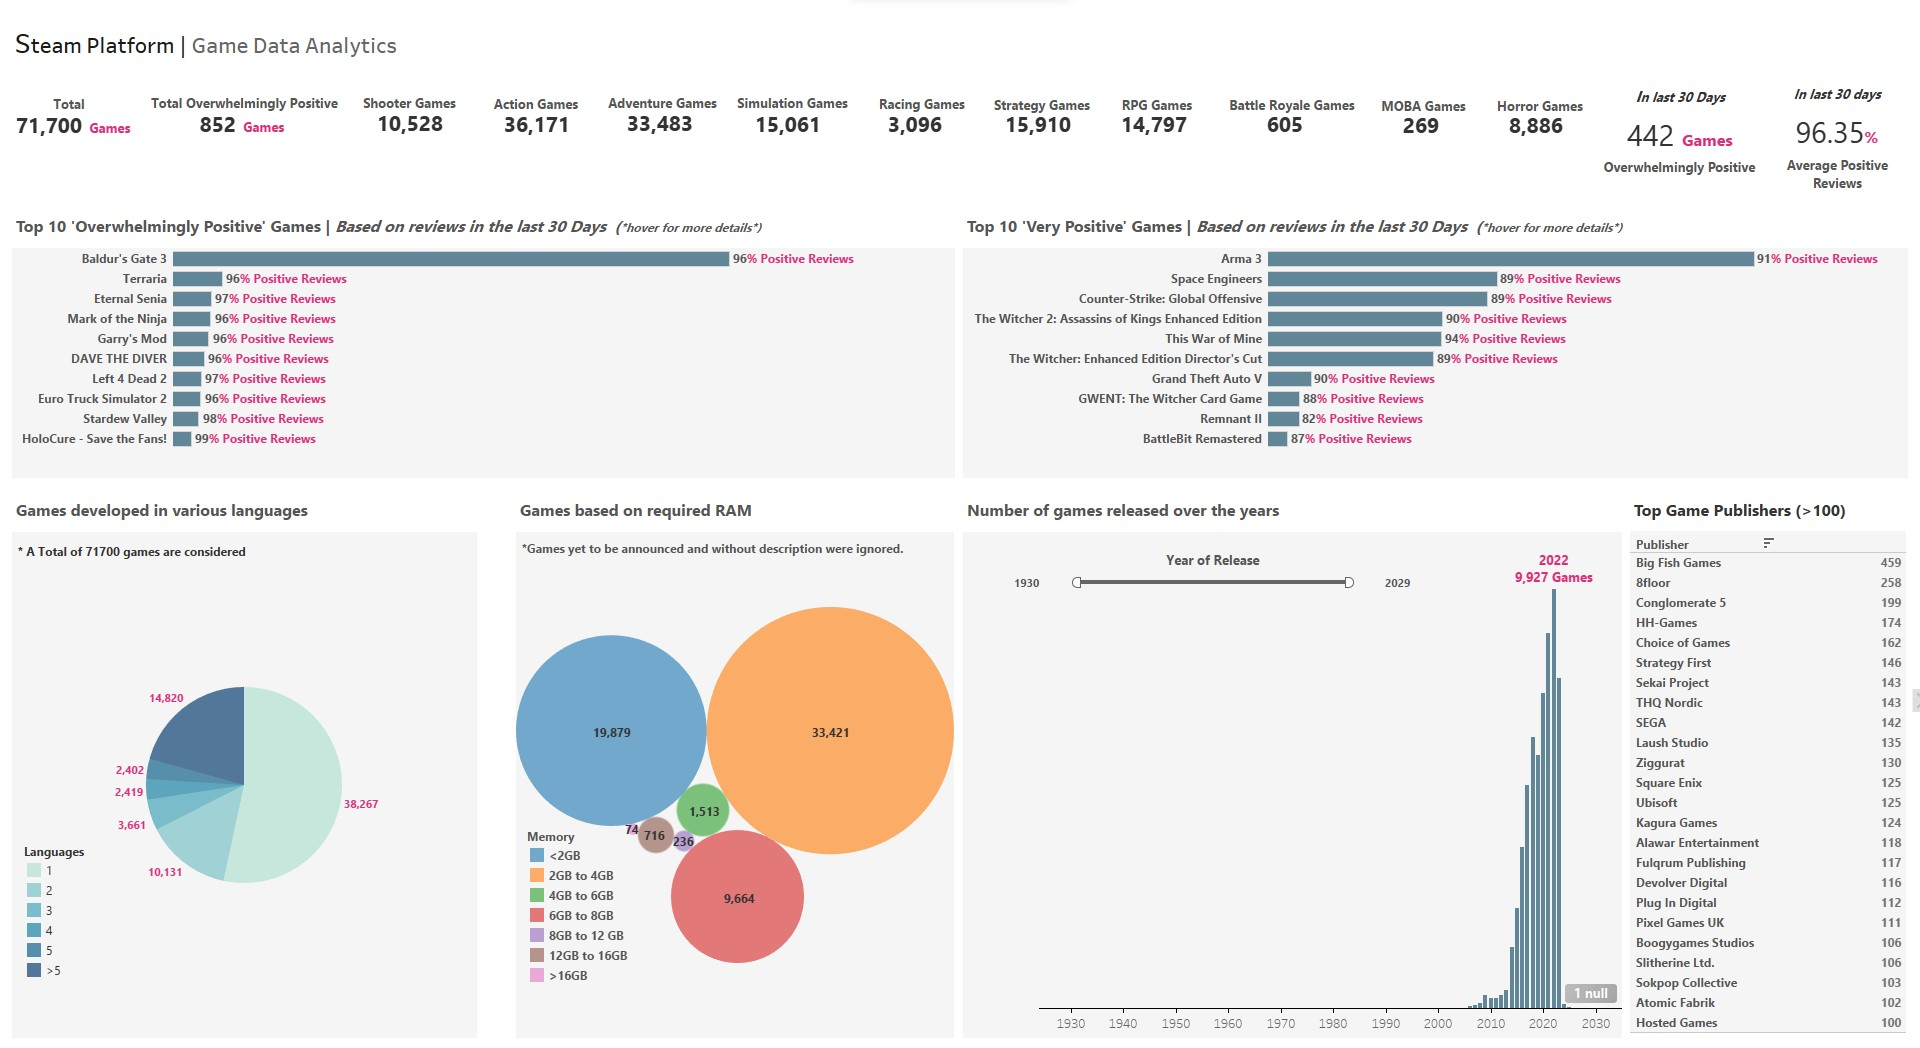

The dashboard page shown, as its layout file describes it:
{"tool":"tableau","page":{"name":"Dashboard 1","canvas":[1000,1000],"units":"permille","ordinal":0},"visuals":[{"type":"text","box":[4.8,9,990.5,65.1]},{"type":"worksheet","title":"All Games","mark":"Automatic","box":[4.8,74.1,68.6,123.7]},{"type":"worksheet","title":"All OP Games","mark":"Automatic","box":[73.4,74.1,108.5,123.7]},{"type":"worksheet","title":"Shooter","mark":"Automatic","box":[181.9,74.1,67.2,123.7]},{"type":"worksheet","title":"Action","mark":"Automatic","box":[249.2,74.1,61.9,123.7]},{"type":"worksheet","title":"Adventure","mark":"Automatic","box":[311.1,74.1,65.7,123.7]},{"type":"worksheet","title":"Simulation","mark":"Automatic","box":[376.8,74.1,68.3,123.7]},{"type":"worksheet","title":"Racing","mark":"Automatic","box":[445,74.1,64.7,123.7]},{"type":"worksheet","title":"Strategy","mark":"Automatic","box":[509.7,74.1,63.7,123.7]},{"type":"worksheet","title":"RPG","mark":"Automatic","box":[573.5,74.1,63.6,123.7]},{"type":"worksheet","title":"BattleRoyale","mark":"Automatic","box":[637.1,74.1,67.2,123.7]},{"type":"worksheet","title":"MOBA","mark":"Automatic","box":[704.3,74.1,71.2,123.7]},{"type":"worksheet","title":"Horror","mark":"Automatic","box":[775.5,74.1,55.9,123.7]},{"type":"worksheet","title":"Total OP Games","mark":"Automatic","box":[831.4,74.1,86.6,123.7]},{"type":"worksheet","title":"Avg percent Response","mark":"Automatic","box":[918,74.1,77.2,123.7]},{"type":"text","box":[0,75.2,72,46.6]},{"type":"text","box":[373.3,75.2,78.4,45.6]},{"type":"text","box":[175,76.3,76.7,43.4]},{"type":"text","box":[245.2,76.3,67.9,44.5]},{"type":"text","box":[308.9,76.3,72.6,43.4]},{"type":"text","box":[449.4,76.3,61.4,44.5]},{"type":"text","box":[54.4,77.3,146.3,42.4]},{"type":"text","box":[511.4,77.3,62.6,44.5]},{"type":"text","box":[575.8,77.3,54.4,44.5]},{"type":"text","box":[632,77.3,82.5,44.5]},{"type":"text","box":[706.9,78.4,69,44.5]},{"type":"text","box":[767.1,78.4,69.6,44.5]},{"type":"worksheet","title":"Top 10 'Overwhelmingly Positive' Games","mark":"Automatic","rows":["Title"],"cols":["Reviews"],"box":[4.8,197.8,494.5,269.8]},{"type":"worksheet","title":"Top 10 'Very Positive' Games","mark":"Automatic","rows":["Title"],"cols":["Reviews"],"box":[499.3,197.8,496,269.8]},{"type":"worksheet","title":"GameLanguages","mark":"Pie","box":[4.8,467.5,262.3,523.5]},{"type":"worksheet","title":"Sheet 19","mark":"Circle","box":[267,467.5,232.2,523.5]},{"type":"worksheet","title":"Releases","mark":"Bar","rows":["Title"],"cols":["ReleaseDate"],"box":[499.3,467.5,347.1,523.5]},{"type":"worksheet","title":"Sheet 20","mark":"Text","rows":["Publisher"],"box":[846.4,467.5,148.9,523.5]},{"type":"text","box":[270.3,501.1,229.4,42.4]},{"type":"text","box":[7.6,503.2,164.4,43.4]},{"type":"filter","title":"Releases","param":"[federated.0wks2pu0cb0x0317usgbp11secwf].[none:ReleaseDate:qk]","box":[513.1,524.7,237.5,41.6]},{"type":"legend","title":"Sheet 19","param":"[federated.1ayd7hz11s5kug19it6hl0ipe9vs].[none:Memory:nk]","box":[274.4,788.1,81.9,167.4]},{"type":"legend","title":"GameLanguages","param":"[federated.1ew7jfn1mnx9n219yvysk1n8wkpp].[none:Languages:nk]","box":[12.3,803,73.1,156.8]}]}

Visuals, with their boxes on the dashboard's canvas, which has no fixed pixel size, in thousandths of its width and height (x1, y1, x2, y2). These are canvas units, not pixel positions in the 1920x1048 screenshot, which may show the page scaled, cropped or inside an application window:
text: select_region(5, 9, 995, 74)
"All Games" worksheet: select_region(5, 74, 73, 198)
"All OP Games" worksheet: select_region(73, 74, 182, 198)
"Shooter" worksheet: select_region(182, 74, 249, 198)
"Action" worksheet: select_region(249, 74, 311, 198)
"Adventure" worksheet: select_region(311, 74, 377, 198)
"Simulation" worksheet: select_region(377, 74, 445, 198)
"Racing" worksheet: select_region(445, 74, 510, 198)
"Strategy" worksheet: select_region(510, 74, 573, 198)
"RPG" worksheet: select_region(574, 74, 637, 198)
"BattleRoyale" worksheet: select_region(637, 74, 704, 198)
"MOBA" worksheet: select_region(704, 74, 776, 198)
"Horror" worksheet: select_region(776, 74, 831, 198)
"Total OP Games" worksheet: select_region(831, 74, 918, 198)
"Avg percent Response" worksheet: select_region(918, 74, 995, 198)
text: select_region(0, 75, 72, 122)
text: select_region(373, 75, 452, 121)
text: select_region(175, 76, 252, 120)
text: select_region(245, 76, 313, 121)
text: select_region(309, 76, 382, 120)
text: select_region(449, 76, 511, 121)
text: select_region(54, 77, 201, 120)
text: select_region(511, 77, 574, 122)
text: select_region(576, 77, 630, 122)
text: select_region(632, 77, 714, 122)
text: select_region(707, 78, 776, 123)
text: select_region(767, 78, 837, 123)
"Top 10 'Overwhelmingly Positive' Games" worksheet: select_region(5, 198, 499, 468)
"Top 10 'Very Positive' Games" worksheet: select_region(499, 198, 995, 468)
"GameLanguages" worksheet (Pie marks): select_region(5, 468, 267, 991)
"Sheet 19" worksheet (Circle marks): select_region(267, 468, 499, 991)
"Releases" worksheet (Bar marks): select_region(499, 468, 846, 991)
"Sheet 20" worksheet (Text marks): select_region(846, 468, 995, 991)
text: select_region(270, 501, 500, 544)
text: select_region(8, 503, 172, 547)
"Releases" filter: select_region(513, 525, 751, 566)
"Sheet 19" legend: select_region(274, 788, 356, 956)
"GameLanguages" legend: select_region(12, 803, 85, 960)
